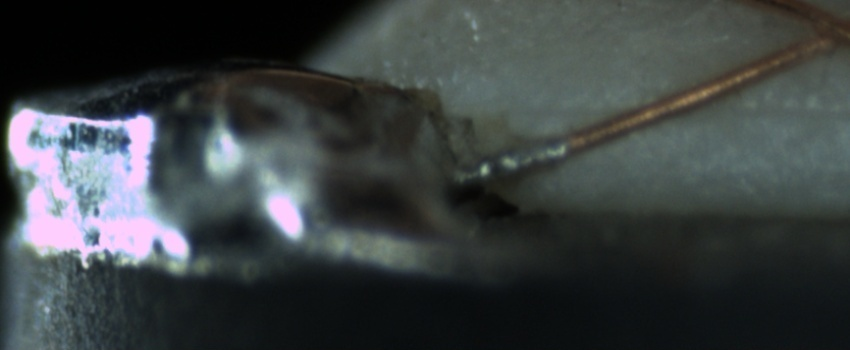CL: (790, 3, 850, 62)
DL: (552, 79, 850, 140)
TS: (448, 136, 570, 190)
TTCW: (446, 114, 621, 188)
